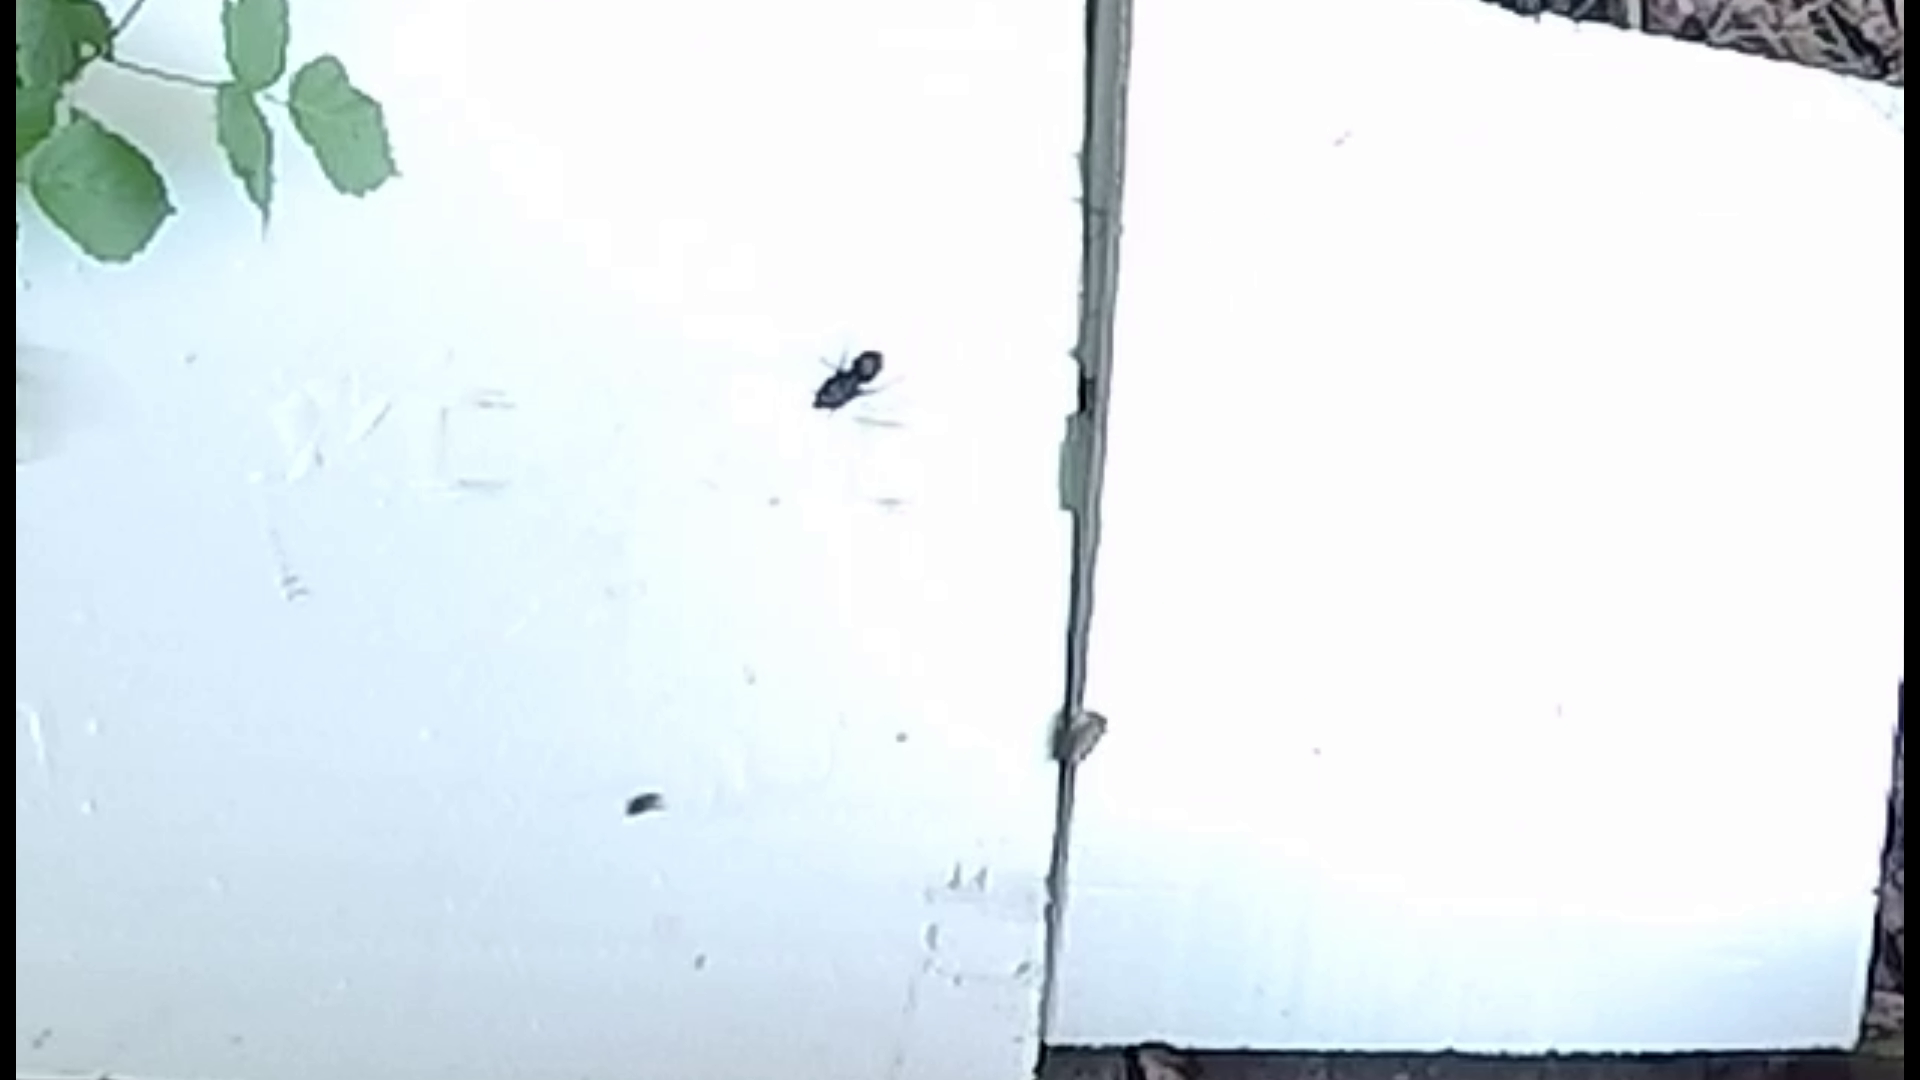Asian_hornets: (766, 307, 911, 436)
